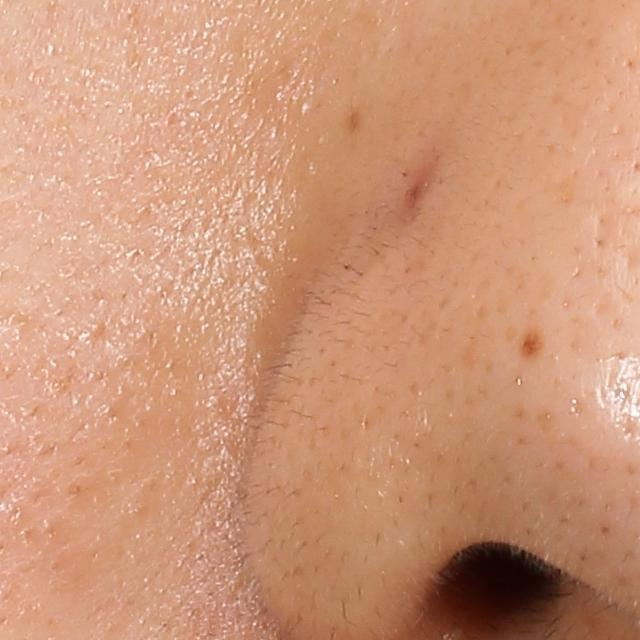nevus: (517, 332, 541, 360), (340, 107, 361, 136)
